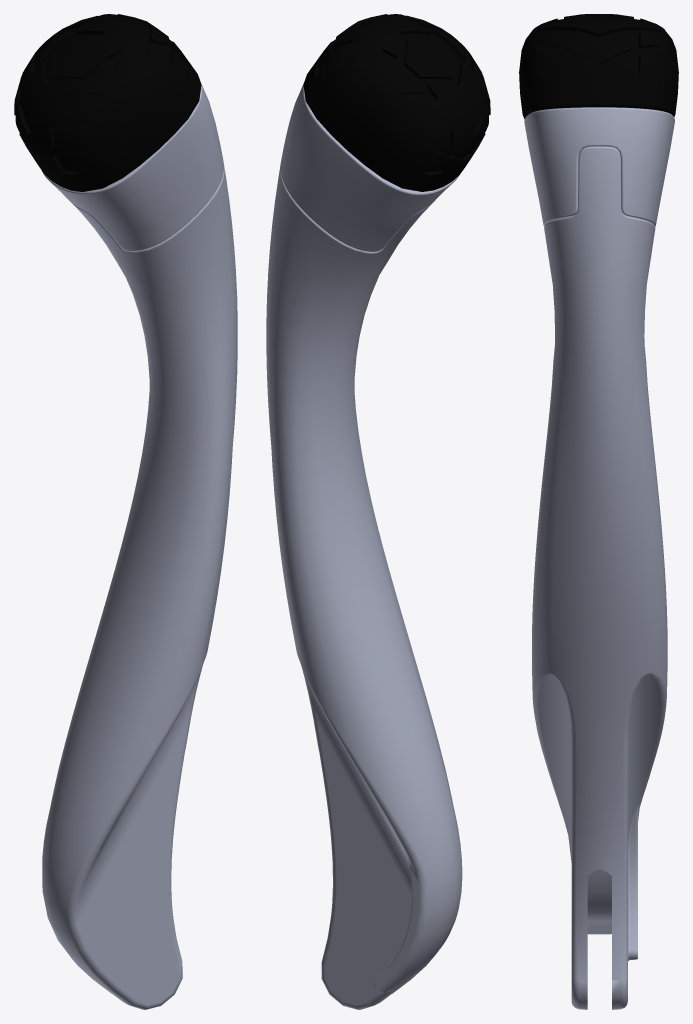
The model's file is calf_mirror.obj.
The picture shows the model from 3 angles, left to right: view 1: azimuth 30°, elevation 25°; view 2: azimuth 150°, elevation 25°; view 3: azimuth 270°, elevation 25°; orthographic projection.
Parts seen in each view (by area): view 1: FLcalf.0901; view 2: FLcalf.0901; view 3: FLcalf.0901.
Part boxes in pixels (x1,y1,x2,y2): FLcalf.0901: (14,14,237,1009); FLcalf.0901: (266,14,490,1009); FLcalf.0901: (519,14,678,1009).
Bounding box in the file's own units: 0.0584 × 0.2667 × 0.0396.
